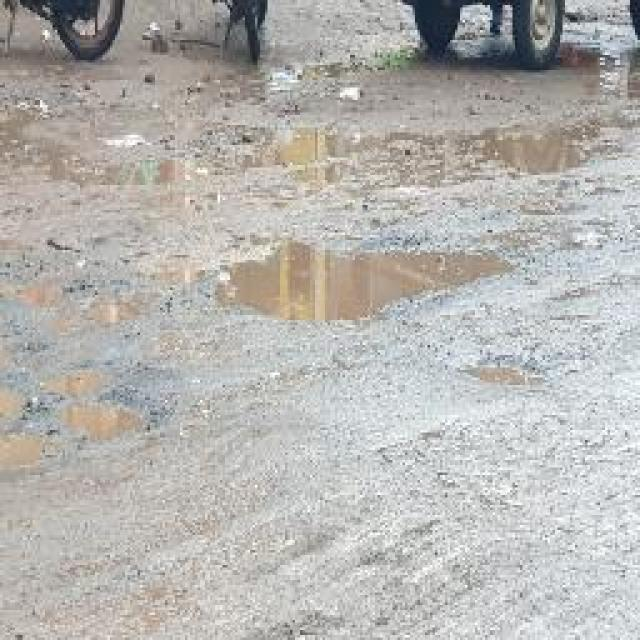stagnation: (71, 111, 591, 317)
